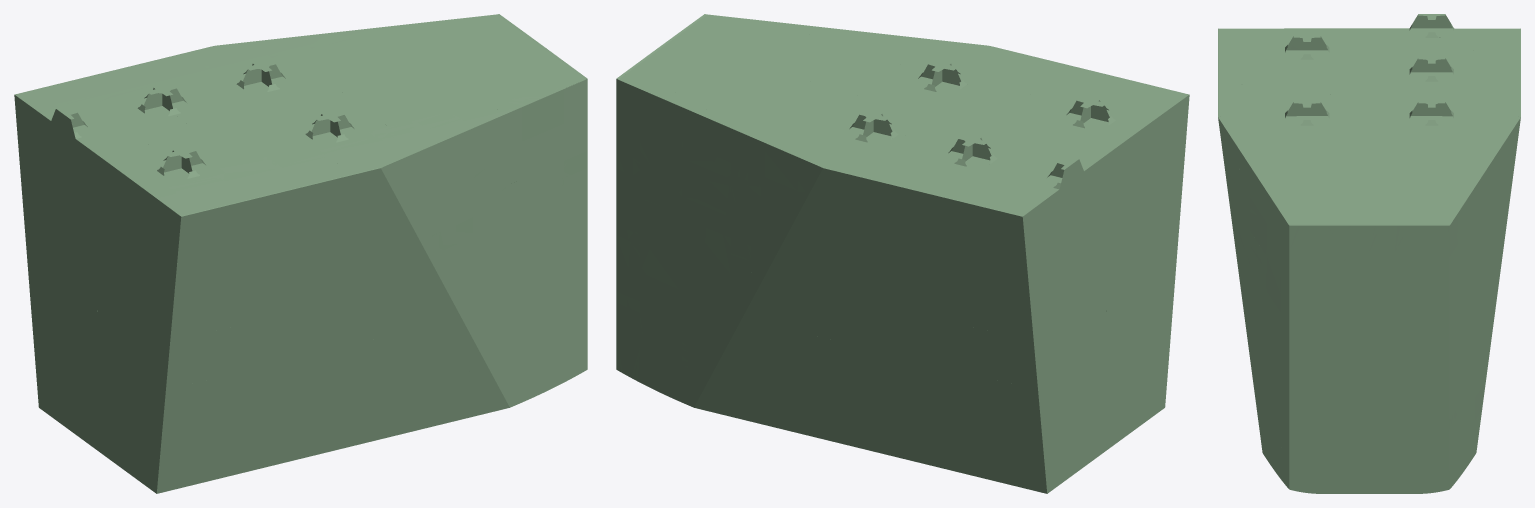
The model's file is NO_1_CENTRAL_CARGO_OIL_TK.glb.
3 views of the same model, side by side, from view 1: azimuth 30°, elevation 25°; view 2: azimuth 150°, elevation 25°; view 3: azimuth 270°, elevation 25° (orthographic). The views are drawn at different scales.
Parts seen in each view (by area): view 1: PL_LBHDxNo1CenterTankS_047003-20.5_NVA32_1993, PL_LBHDxNo1CenterTankS_019002-17.5_NVA32_1993, PL_LBHDxNo1CenterTankS_020002-17.5_NVA32_1993, PL_LBHDxNo1CenterTankS_008003-15_NVA32_1993, PL_LBHDxNo1CenterTankS_017003-17.5_NVA32_1993, PL_LBHDxNo1CenterTankS_047002-20.5_NVA32_1993, PL_LBHDxNo1CenterTankS_025002-17.5_NVA32_1993, PL_LBHDxNo1CenterTankS_004003-15.5_NVA32_1993, PL_TransBHDxBHD90P_013001-19.5_NVA32_1993, PL_LBHDxNo1CenterTankS_047004-20.5_NVA32_1993, PL_LBHDxNo1CenterTankS_030003-17_NVA32_1993, PL_TransBHDxBHD90P_008001-14.5_NVA32_1993 (+140 smaller); view 2: PL_LBHDxNo1CenterTankP_046003-20.5_NVA32_1993, PL_LBHDxNo1CenterTankP_024002-17.5_NVA32_1993, PL_LBHDxNo1CenterTankP_021002-17.5_NVA32_1993, PL_LBHDxNo1CenterTankP_008003-15_NVA32_1993, PL_LBHDxNo1CenterTankP_022003-17.5_NVA32_1993, PL_LBHDxNo1CenterTankP_046002-20.5_NVA32_1993, PL_LBHDxNo1CenterTankP_020002-17.5_NVA32_1993, PL_LBHDxNo1CenterTankP_004003-15.5_NVA32_1993, PL_TransBHDxBHD90P_013001-19.5_NVA32_1993, PL_LBHDxNo1CenterTankP_046004-20.5_NVA32_1993, PL_LBHDxNo1CenterTankP_027003-17_NVA32_1993, PL_TransBHDxBHD90P_008001-14.5_NVA32_1993 (+139 smaller); view 3: PL_TransBHDxBHD99P_001001-22_NVA_1993, PL_TransBHDxBHD99P_002001-21_NVA_1993, PL_TransBHDxBHD99S_001002-22_NVA_1993, PL_TransBHDxBHD99S_002002-21_NVA_1993, PL_TransBHDxBHD99P_003005-20_NVA_1993, PL_TransBHDxBHD99S_003005-20_NVA_1993, PL_TransBHDxBHD99P_004002-18.5_NVA_1993, PL_TransBHDxBHD99S_005001-18.5_NVA_1993, PL_TransBHDxBHD99P_008002-16_NVA_1993, PL_TransBHDxBHD99S_009001-16_NVA_1993, PL_TransBHDxBHD99P_012002-13_NVA_1993, PL_TransBHDxBHD99S_013001-13_NVA_1993 (+151 smaller).
Part boxes in pixels (left/top/right/bottom): PL_LBHDxNo1CenterTankS_047003-20.5_NVA32_1993: left=226, top=428, right=285, bottom=476; PL_LBHDxNo1CenterTankS_019002-17.5_NVA32_1993: left=229, top=395, right=288, bottom=441; PL_LBHDxNo1CenterTankS_020002-17.5_NVA32_1993: left=238, top=289, right=294, bottom=336; PL_LBHDxNo1CenterTankS_008003-15_NVA32_1993: left=473, top=217, right=521, bottom=273; PL_LBHDxNo1CenterTankS_017003-17.5_NVA32_1993: left=232, top=358, right=291, bottom=402; PL_LBHDxNo1CenterTankS_047002-20.5_NVA32_1993: left=177, top=442, right=228, bottom=488; PL_LBHDxNo1CenterTankS_025002-17.5_NVA32_1993: left=248, top=187, right=303, bottom=231; PL_LBHDxNo1CenterTankS_004003-15.5_NVA32_1993: left=473, top=107, right=521, bottom=162; PL_TransBHDxBHD90P_013001-19.5_NVA32_1993: left=54, top=382, right=97, bottom=450; PL_LBHDxNo1CenterTankS_047004-20.5_NVA32_1993: left=283, top=417, right=330, bottom=462; PL_LBHDxNo1CenterTankS_030003-17_NVA32_1993: left=522, top=347, right=563, bottom=402; PL_TransBHDxBHD90P_008001-14.5_NVA32_1993: left=54, top=235, right=97, bottom=300; PL_LBHDxNo1CenterTankP_046003-20.5_NVA32_1993: left=918, top=428, right=977, bottom=476; PL_LBHDxNo1CenterTankP_024002-17.5_NVA32_1993: left=915, top=395, right=974, bottom=441; PL_LBHDxNo1CenterTankP_021002-17.5_NVA32_1993: left=909, top=289, right=965, bottom=336; PL_LBHDxNo1CenterTankP_008003-15_NVA32_1993: left=682, top=217, right=730, bottom=273; PL_LBHDxNo1CenterTankP_022003-17.5_NVA32_1993: left=912, top=358, right=971, bottom=402; PL_LBHDxNo1CenterTankP_046002-20.5_NVA32_1993: left=975, top=442, right=1026, bottom=488; PL_LBHDxNo1CenterTankP_020002-17.5_NVA32_1993: left=900, top=187, right=955, bottom=231; PL_LBHDxNo1CenterTankP_004003-15.5_NVA32_1993: left=682, top=107, right=730, bottom=162; PL_TransBHDxBHD90P_013001-19.5_NVA32_1993: left=1063, top=413, right=1106, bottom=481; PL_LBHDxNo1CenterTankP_046004-20.5_NVA32_1993: left=873, top=417, right=920, bottom=462; PL_LBHDxNo1CenterTankP_027003-17_NVA32_1993: left=640, top=347, right=681, bottom=402; PL_TransBHDxBHD90P_008001-14.5_NVA32_1993: left=1063, top=266, right=1106, bottom=332; PL_TransBHDxBHD99P_001001-22_NVA_1993: left=1369, top=467, right=1427, bottom=493; PL_TransBHDxBHD99P_002001-21_NVA_1993: left=1369, top=440, right=1427, bottom=466; PL_TransBHDxBHD99S_001002-22_NVA_1993: left=1311, top=467, right=1369, bottom=493; PL_TransBHDxBHD99S_002002-21_NVA_1993: left=1311, top=440, right=1369, bottom=466; PL_TransBHDxBHD99P_003005-20_NVA_1993: left=1369, top=419, right=1418, bottom=439; PL_TransBHDxBHD99S_003005-20_NVA_1993: left=1320, top=419, right=1369, bottom=439; PL_TransBHDxBHD99P_004002-18.5_NVA_1993: left=1418, top=386, right=1449, bottom=412; PL_TransBHDxBHD99S_005001-18.5_NVA_1993: left=1289, top=386, right=1320, bottom=412; PL_TransBHDxBHD99P_008002-16_NVA_1993: left=1418, top=332, right=1449, bottom=358; PL_TransBHDxBHD99S_009001-16_NVA_1993: left=1289, top=332, right=1320, bottom=358; PL_TransBHDxBHD99P_012002-13_NVA_1993: left=1418, top=278, right=1449, bottom=304; PL_TransBHDxBHD99S_013001-13_NVA_1993: left=1289, top=278, right=1320, bottom=304.
Size of the model in its own units: 47.23 by 31.51 by 30.6.
